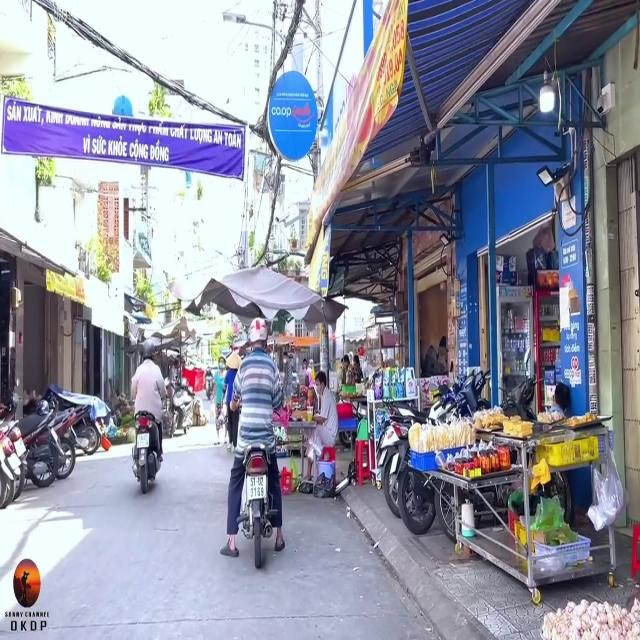bien_trang: (247, 472, 266, 501)
